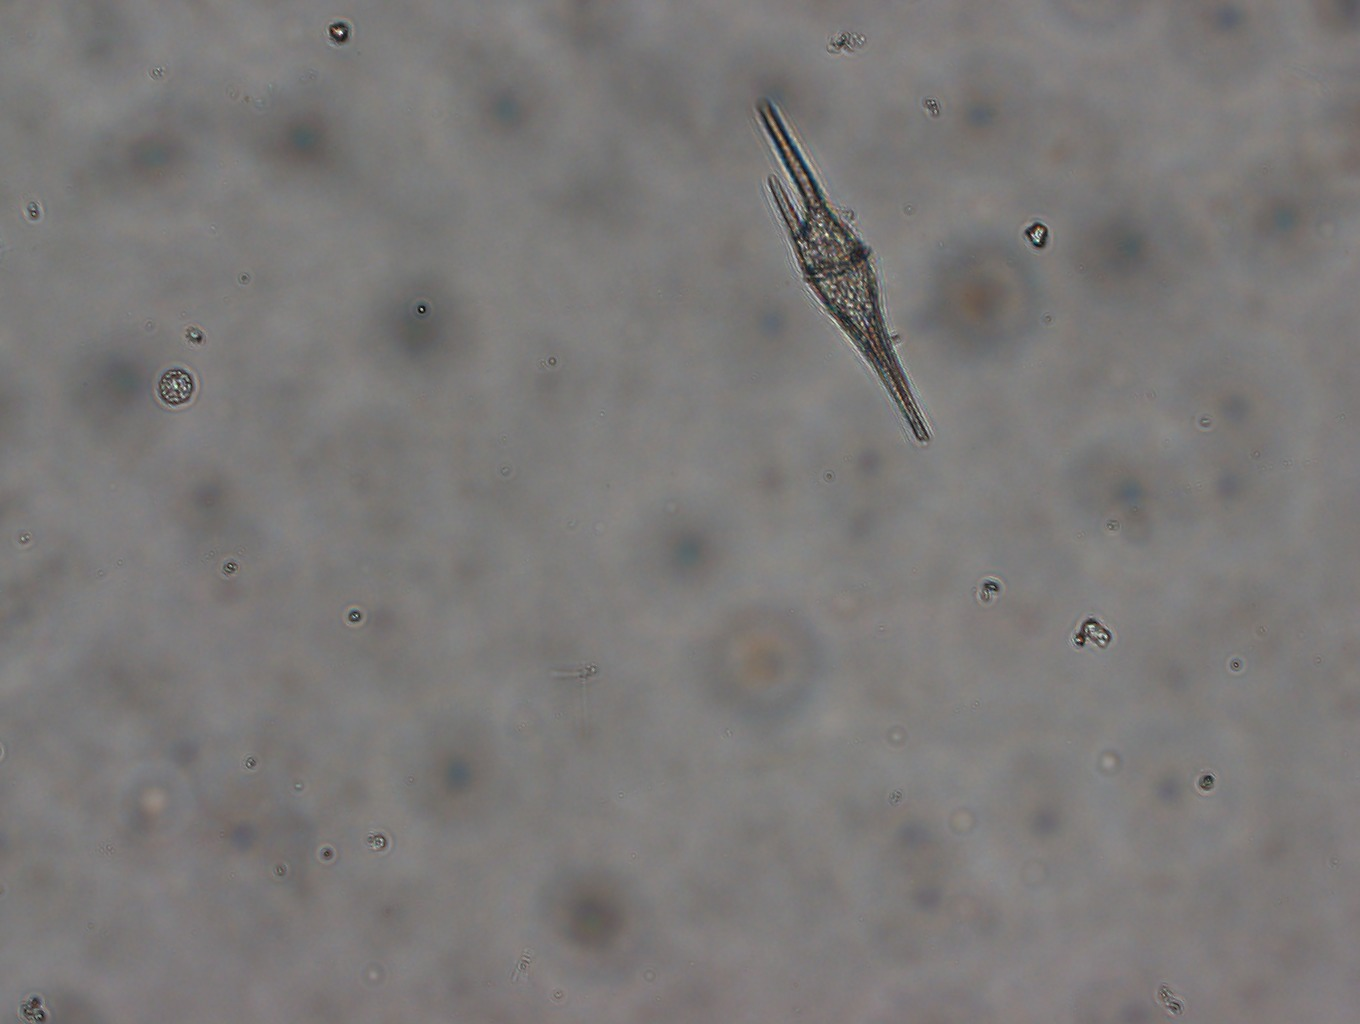ceratium furca: (740, 86, 931, 452)
